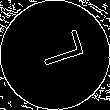L_W: (26, 33, 84, 77)
